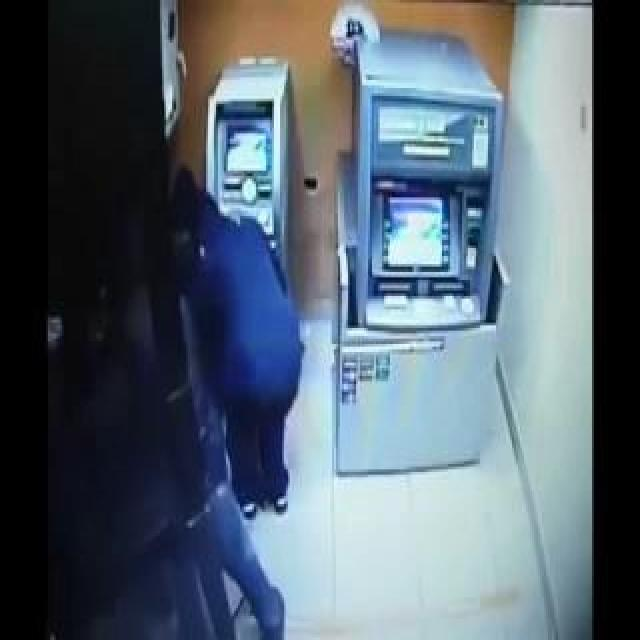thief: (155, 157, 240, 360)
